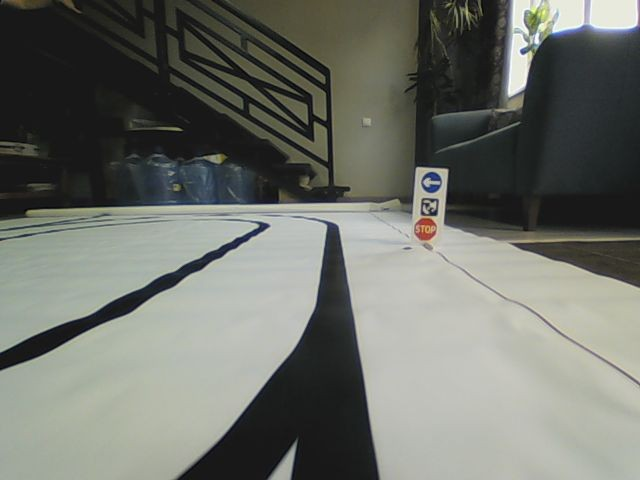Stop: (413, 217, 437, 242)
